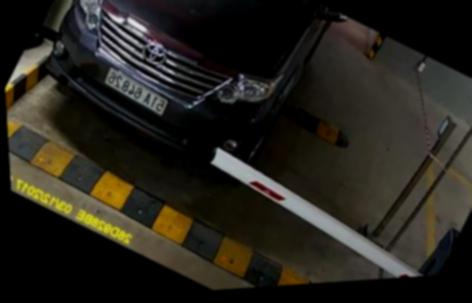License_Plate: (100, 63, 171, 128)
